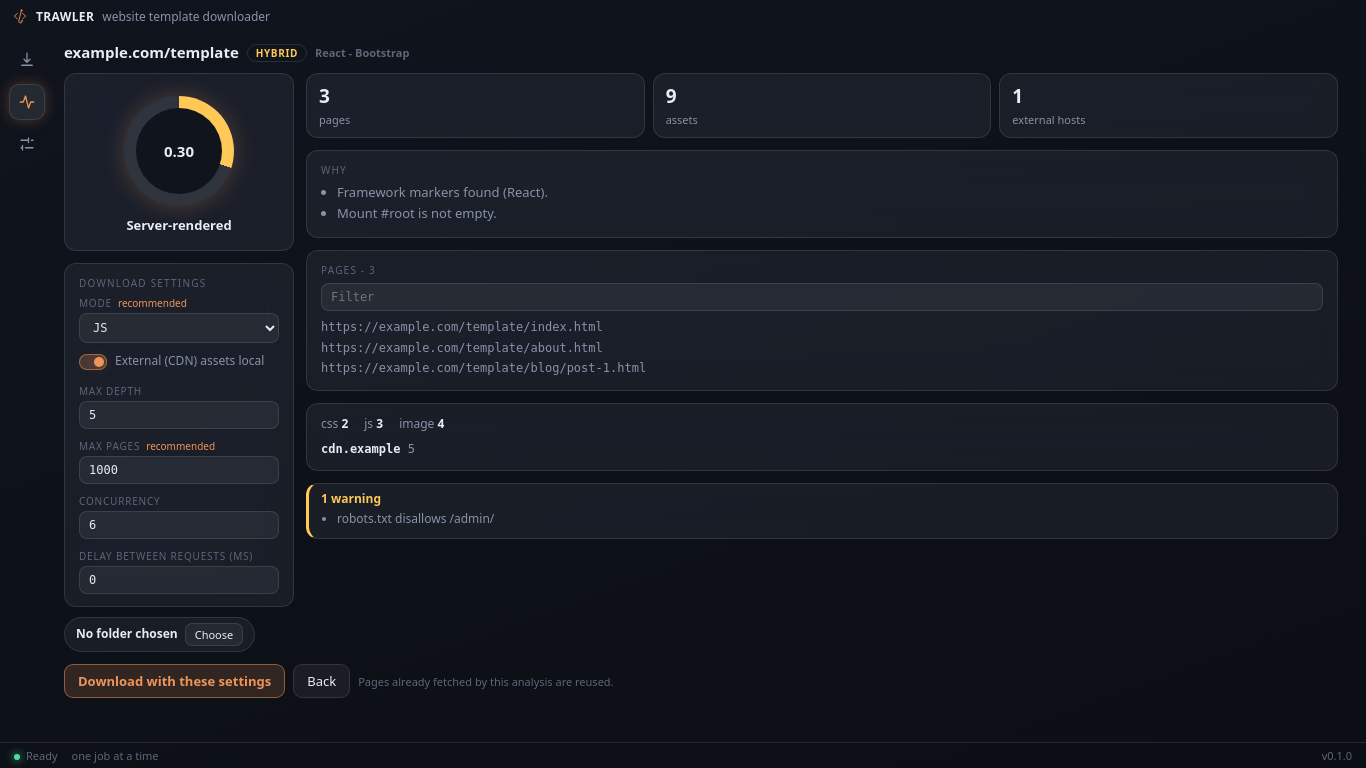
Test case: Analysis screen › asks for a folder before downloading
Click the button "Download with these settings" at (175, 681), box x1=64 y1=664 x2=285 y2=698
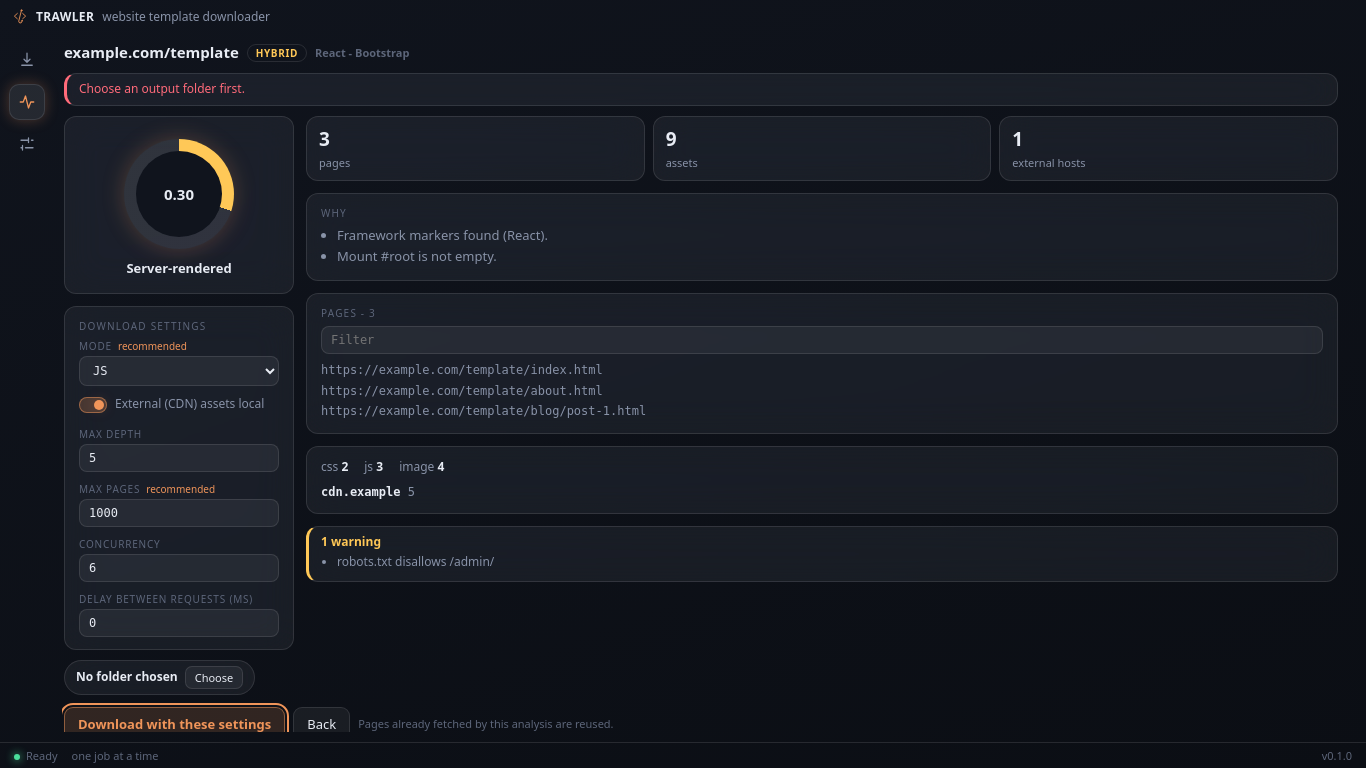
Now the message reads "Choose an output folder first.", box x1=79 y1=80 x2=245 y2=97
